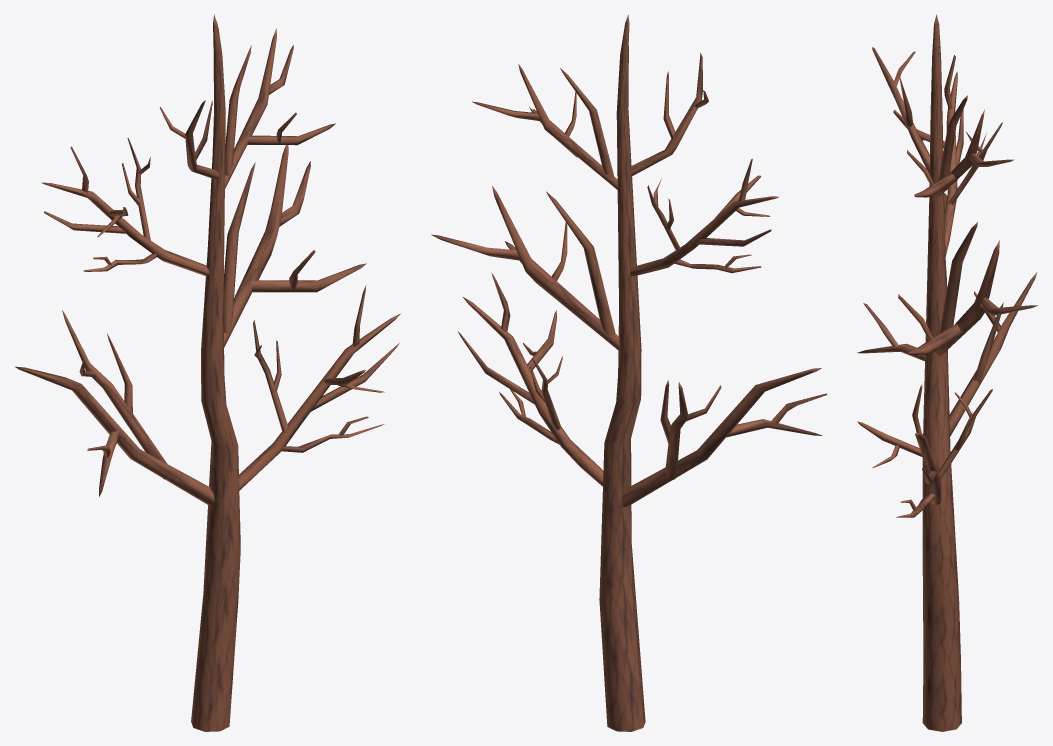
Rendered from DeadTree_2.glb.
The picture shows the model from 3 angles, left to right: view 1: azimuth 30°, elevation 25°; view 2: azimuth 150°, elevation 25°; view 3: azimuth 270°, elevation 25°; orthographic projection.
Bounding box in the file's own units: 3.42 × 6.2 × 1.45.
Materials: 1 (1 with a texture image).
